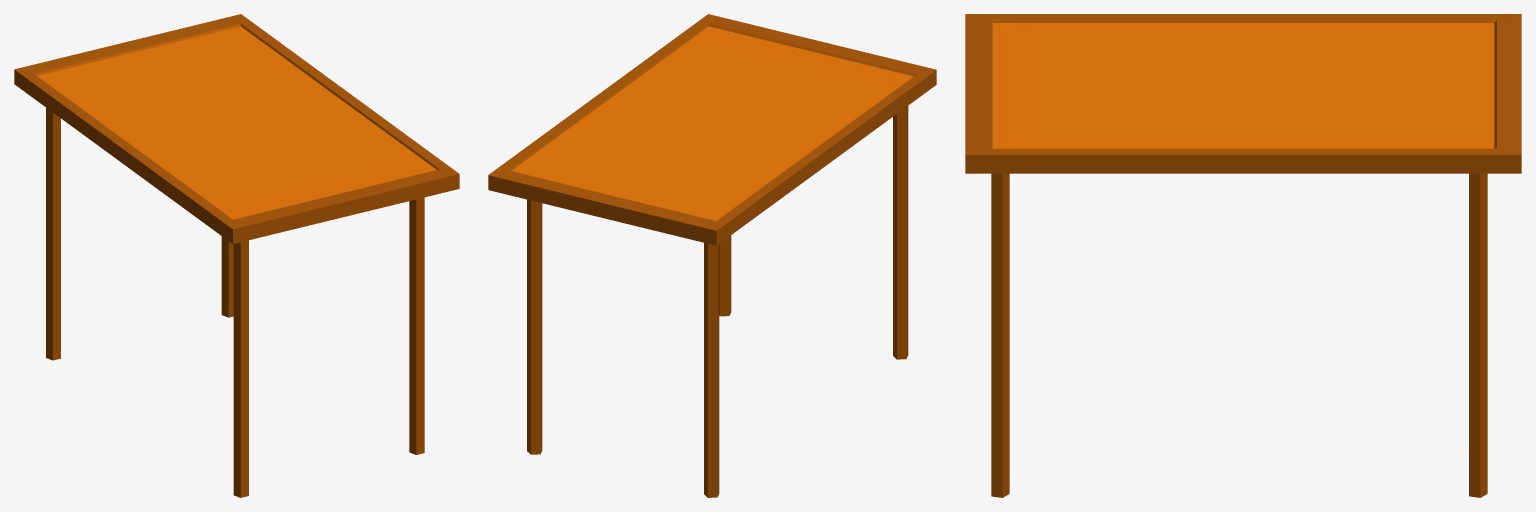
The model's file is table.dae.
3 renders of one model, left to right at view 1: azimuth 30°, elevation 25°; view 2: azimuth 150°, elevation 25°; view 3: azimuth 270°, elevation 25°, orthographic. The views are drawn at different scales.
Visible parts, largest first — view 1: Table; view 2: Table; view 3: Table.
Boxes of the visible parts, x1,y1,x2,y2 form: Table: (14, 14, 459, 497); Table: (488, 14, 936, 497); Table: (965, 14, 1521, 497).
Size of the model in its own units: 5.21 by 8.69 by 6.15.
1 material, 1 textured.
